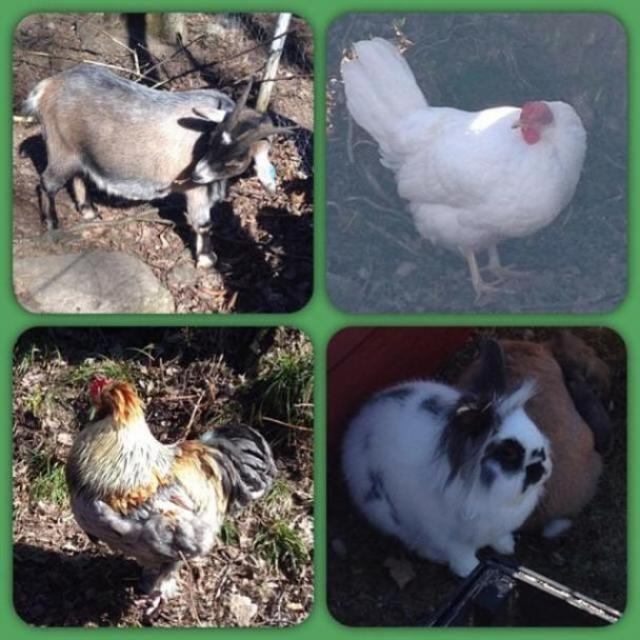Chicken: (333, 35, 589, 297), (60, 371, 283, 624)
